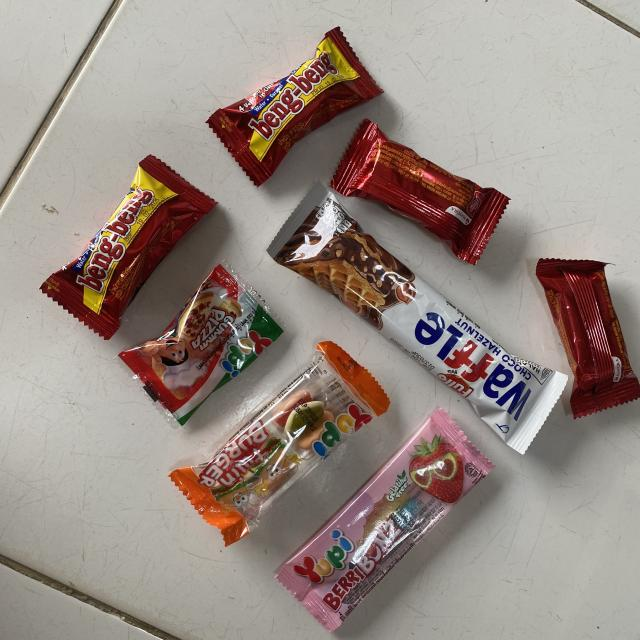plastik: (268, 181, 568, 452), (278, 409, 494, 631), (170, 342, 389, 545), (40, 155, 216, 339), (208, 28, 384, 186), (119, 264, 282, 425), (330, 119, 509, 265), (536, 259, 640, 418)
